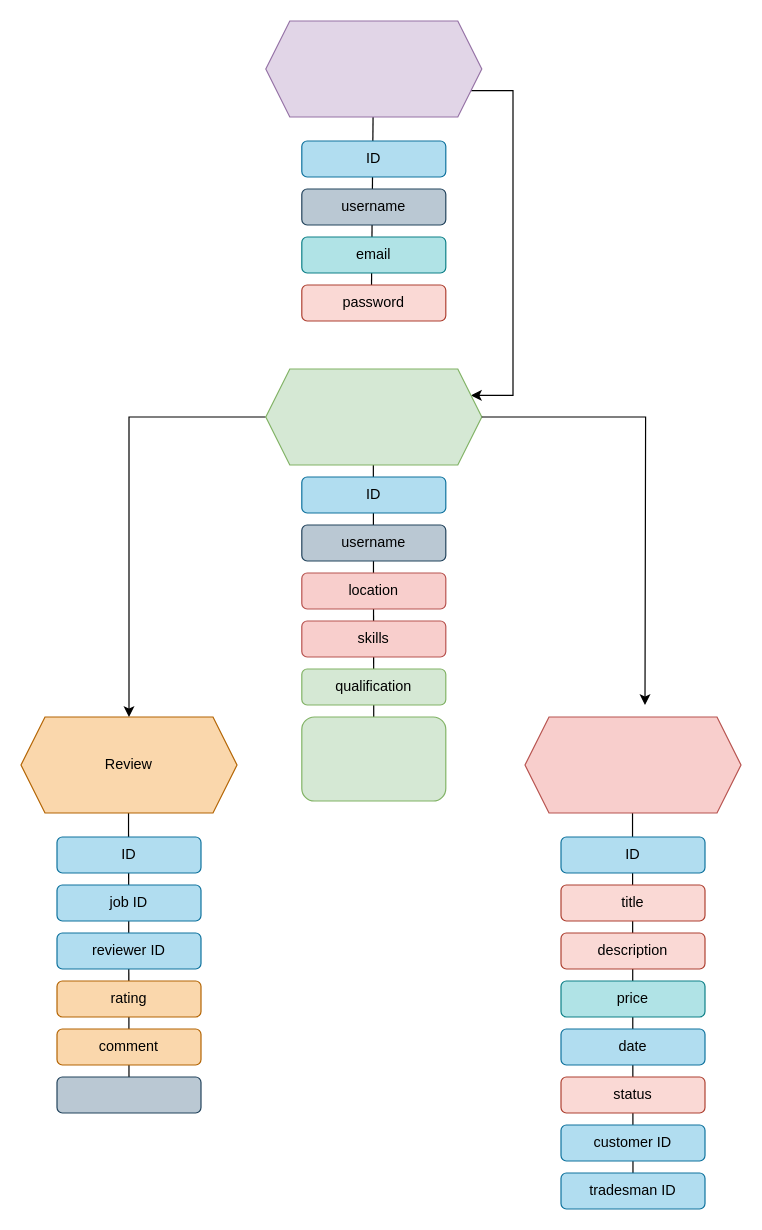
This 762x1230 diagram has some shape labels left out. Each missing label, with the centre of its shape:
date posted: the point at 128,1094
Job: the point at 632,764
Profile: the point at 373,416
profile image: the point at 373,758
User: the point at 373,68
